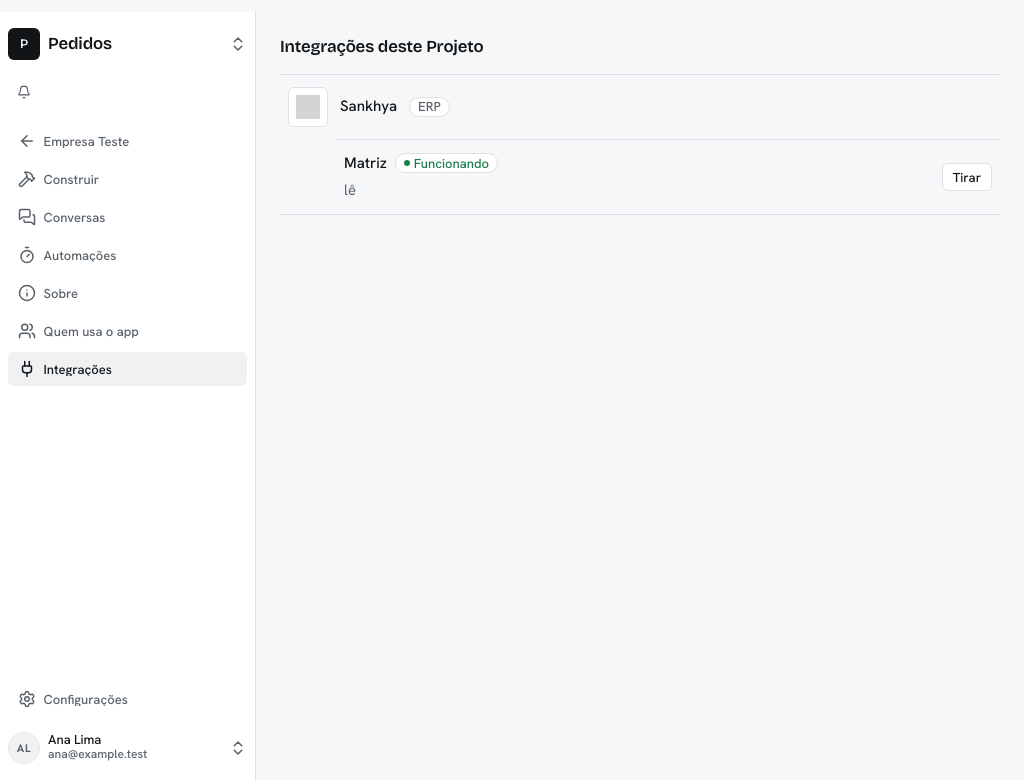
Test: Tirar tira a liberação e a linha volta a "não liberado"
Click the button with aria-label "Tirar: Matriz": point(967, 177) [942,163,992,191]
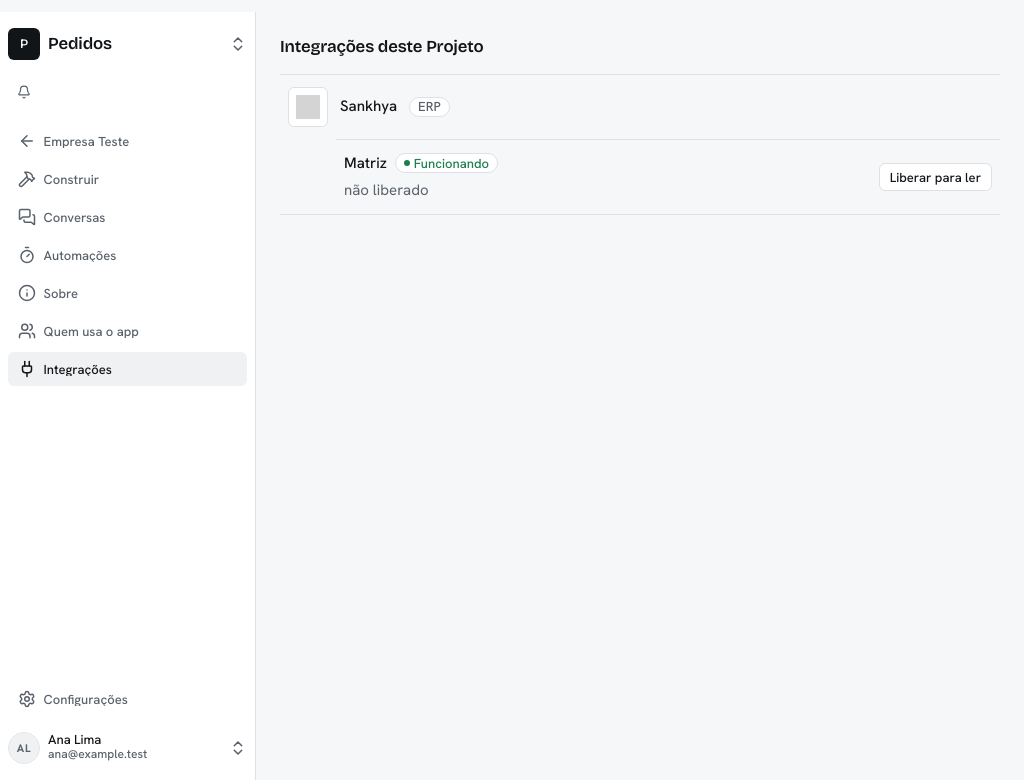
Expected: the button with aria-label "Liberar para ler: Matriz" is shown, [879,163,992,191]
